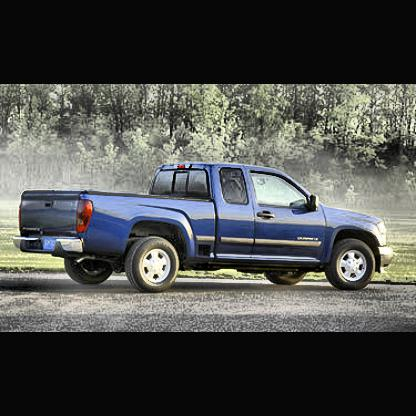GMC Canyon Extended Cab 2012: (18, 161, 397, 289)
